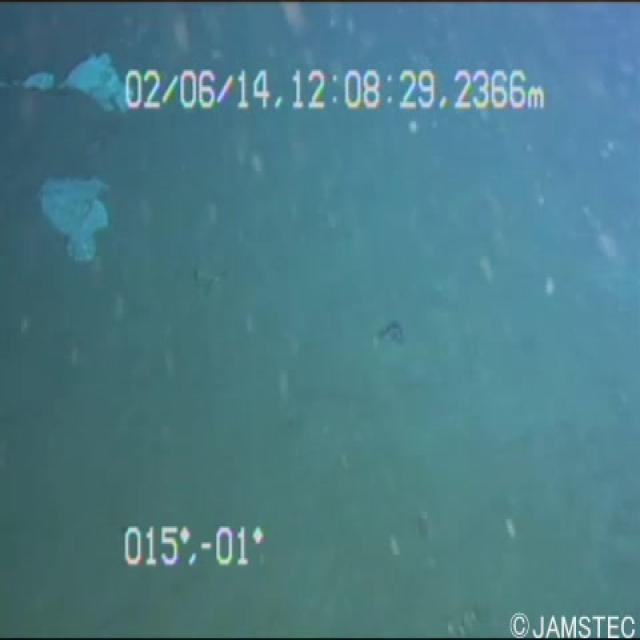plastic: (5, 32, 142, 128), (16, 155, 127, 261)
